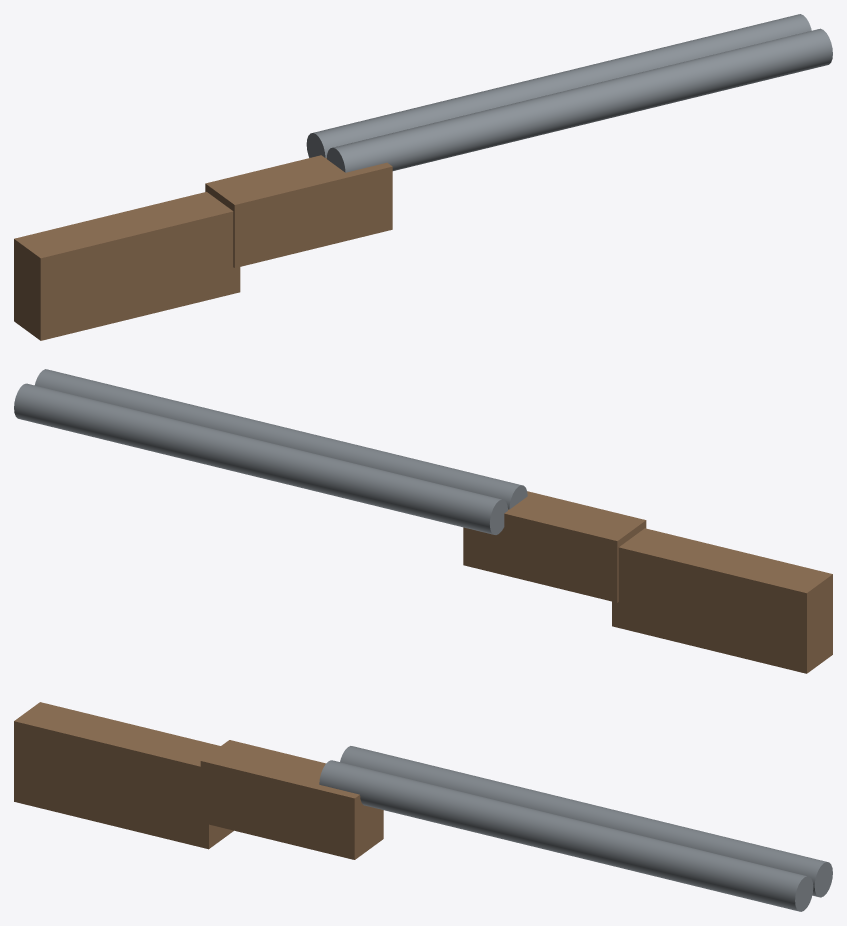
Rendered from double_barrel_shotgun.glb.
The picture shows the model from 3 angles, top to bottom: view 1: azimuth 30°, elevation 25°; view 2: azimuth 150°, elevation 25°; view 3: azimuth 330°, elevation 25°; orthographic projection. The views are drawn at different scales.
Parts seen in each view (by area): view 1: world; view 2: world; view 3: world.
Part boxes in pixels (bbox=[...]): world: bbox=[14, 14, 832, 340]; world: bbox=[14, 369, 832, 673]; world: bbox=[14, 702, 832, 911].
Bounding box in the file's own units: 1.71 × 0.22 × 0.165.
